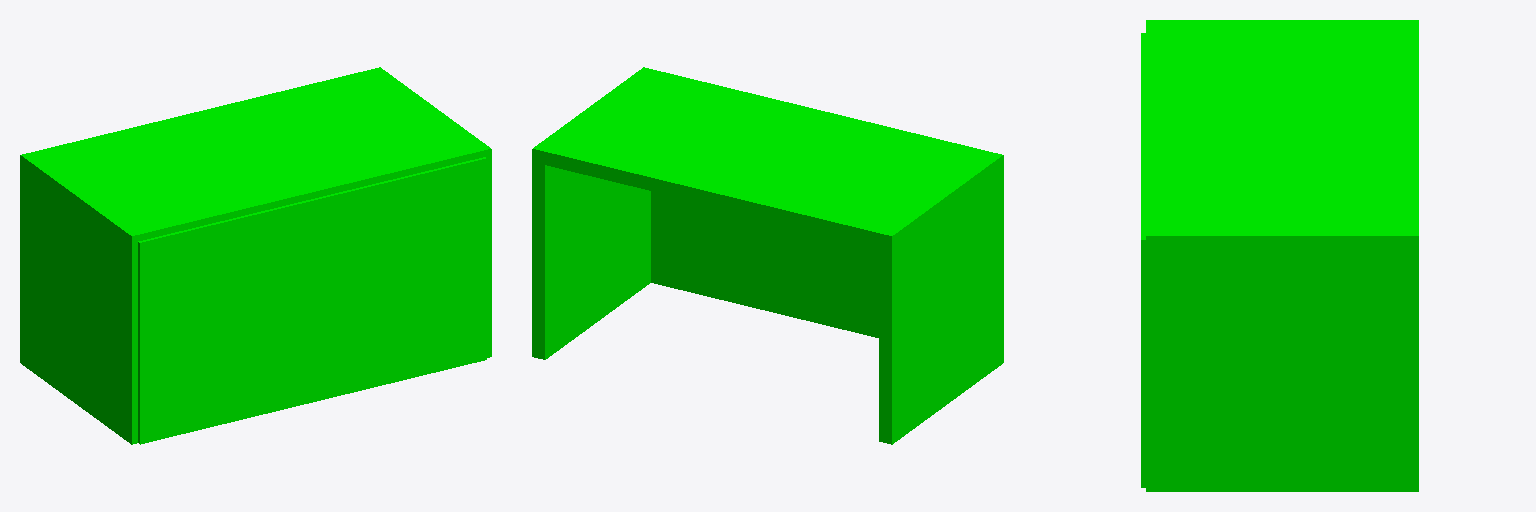
URDF robot description (cube.urdf):
<?xml version="0.0" ?>
<robot name="cube.urdf">
  <link name="baseLink">
    <inertial>
      <origin rpy="0 0 0" xyz="0 0 0"/>
      <mass value="0.001"/>
      <inertia ixx="-4.46E-06" ixy="-4.55E-07" ixz="1.95E-06" iyy="-2.47E-06" iyz="8.51E-08" izz="2.17E-06"/>
    </inertial>
    <visual>
      <origin rpy="0 0 0" xyz="0 0 0.075"/>
      <geometry>
        <box size=".28 .15 0.01"/>
      </geometry>
      <material name="green">
      </material> 
    </visual>
    <collision>
      <origin rpy="0 0 0" xyz="0 0 0.075"/>
      <geometry>
        <box size=".28 .15 0.01"/>
      </geometry>
    </collision>
  </link>

  <joint name="rear_joint" type="fixed">
    <origin rpy="0 0 0" xyz="0 0 0"/>
    <parent link="baseLink"/>
    <child link="rear"/>
  </joint>

  <joint name="left_joint" type="fixed">
    <origin rpy="0 0 0" xyz="0 0 0"/>
    <parent link="baseLink"/>
    <child link="left"/>
  </joint>


  <link name="rear">
    <inertial>
      <origin rpy="0 0 0" xyz="0 -0.0725 0"/>
      <mass value="0.001"/>
      <inertia ixx="-4.46E-06" ixy="-4.55E-07" ixz="1.95E-06" iyy="-2.47E-06" iyz="8.51E-08" izz="2.17E-06"/>
    </inertial>
    <visual>
      <origin rpy="0 0 0" xyz="0 -0.0725 0.0"/>
      <geometry>
        <box size=".27 .01 0.15"/>
      </geometry>
      <material name="green">
      </material> 
    </visual>
    <collision>
      <origin rpy="0 0 0" xyz="0 -0.0725 0.0"/>
      <geometry>
        <box size=".27 .01 0.15"/>
      </geometry>
    </collision>
  </link>


  <link name="left">
    <inertial>
      <origin rpy="0 0 0" xyz="0 0 0"/>
      <mass value="0.001"/>
      <inertia ixx="-4.46E-06" ixy="-4.55E-07" ixz="1.95E-06" iyy="-2.47E-06" iyz="8.51E-08" izz="2.17E-06"/>
    </inertial>
    <visual>
      <origin rpy="0 0 0" xyz="0.135 0.0 0"/>
      <geometry>
        <box size=".01 .15 0.15"/>
      </geometry>
      <material name="green">
      </material> 
    </visual>
    <collision>
      <origin rpy="0 0 0" xyz="0.135 0 0"/>
      <geometry>
        <box size=".01 .15 0.15"/>
      </geometry>
    </collision>
  </link>

  <link name="right">
    <inertial>
      <mass value="0.001"/>
      <inertia ixx="-4.46E-06" ixy="-4.55E-07" ixz="1.95E-06" iyy="-2.47E-06" iyz="8.51E-08" izz="2.17E-06"/>
    </inertial>
    <visual>
      <origin rpy="0 0 0" xyz="-0.135 0.0 0"/>
      <geometry>
        <box size=".01 .15 0.15"/>
      </geometry>
      <material name="green">
      </material> 
    </visual>
    <collision>
      <origin rpy="0 0 0" xyz="-0.135 0 0"/>
      <geometry>
        <box size=".01 .15 0.15"/>
      </geometry>
    </collision>
  </link>

  <joint name="right_joint" type="fixed">
    <origin rpy="0 0 0" xyz="0 0 0"/>
    <parent link="baseLink"/>
    <child link="right"/>
  </joint>


  <material name="panda_white">
    <color rgba="1. 1. 1. 1."/>
  </material>
  <material name="red">
    <color rgba="1.0 0. 0. 1.0"/>
  </material>
  <material name="blue">
    <color rgba="0. 0. 1. 1.0"/>
  </material>
  <material name="green">
    <color rgba="0. 1. 0. 1.0"/>
  </material>
<material name="Yellow">
  <color rgba="0.949 0.878 0.0392 1.0"/>
</material>
<material name="Blue">
  <color rgba="0.12156 0.3804 0.6745 1.0"/>
</material>
<material name="Red">
  <color rgba="0.9254901 0.243137 0.086274509 1.0"/>
</material>
</robot>

--- What the picture shows (computed from the rendered views, not written in the file) ---
The picture shows the robot from 3 angles, left to right: view 1: azimuth 30°, elevation 25°; view 2: azimuth 150°, elevation 25°; view 3: azimuth 270°, elevation 25°; orthographic projection.
Robot: cube.urdf — 4 links, 3 joints (3 fixed); root link baseLink; default pose: all joints at 0.
Links seen in each view (by area): view 1: rear, baseLink, right, left; view 2: baseLink, right, rear, left; view 3: left, baseLink, rear.
Boxes of the visible links, x1,y1,x2,y2 form: rear: [138, 157, 486, 444]; baseLink: [20, 67, 491, 249]; right: [20, 162, 137, 444]; left: [487, 162, 491, 357]; baseLink: [532, 67, 1003, 249]; right: [879, 162, 1003, 444]; rear: [651, 191, 878, 337]; left: [532, 159, 650, 359]; left: [1146, 244, 1418, 491]; baseLink: [1146, 20, 1418, 251]; rear: [1141, 33, 1145, 487].
Bounding box of the posed robot: 0.28 × 0.1525 × 0.155 m (x, y, z).
Geometry: primitives only (box / cylinder / sphere), no mesh files.